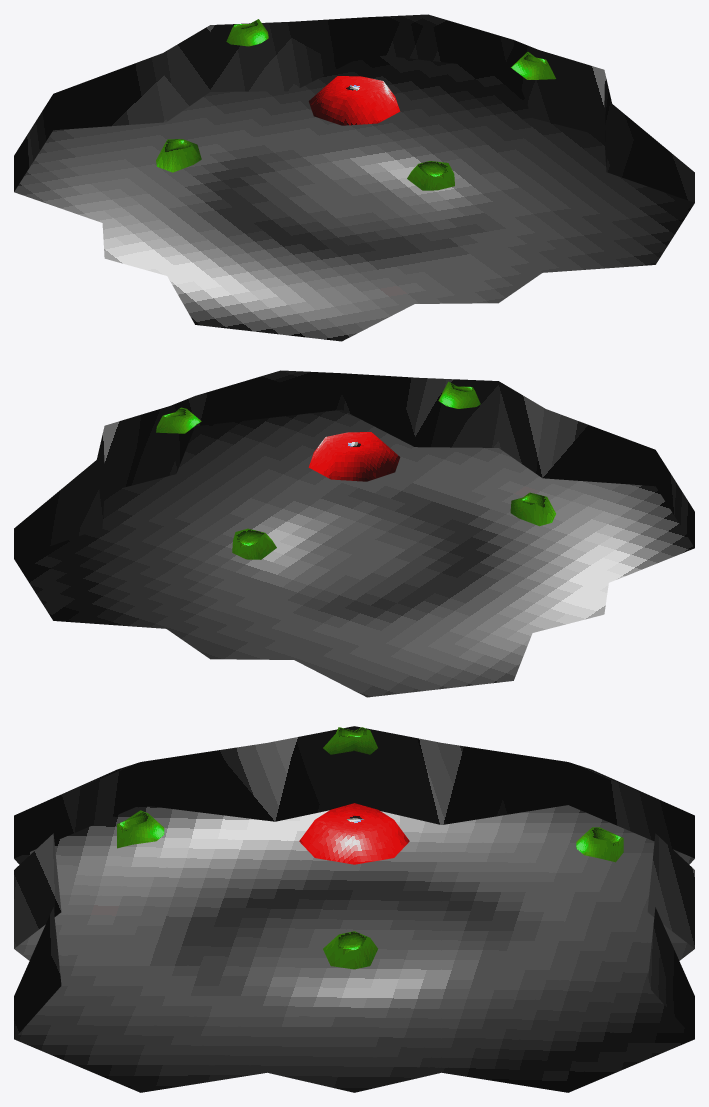
The model's file is gun.glb.
3 renders of one model, top to bottom at view 1: azimuth 30°, elevation 25°; view 2: azimuth 150°, elevation 25°; view 3: azimuth 270°, elevation 25°, orthographic. The views are drawn at different scales.
Visible parts, largest first — view 1: m1, m2, m0; view 2: m1, m2, m0; view 3: m1, m2, m0.
Boxes of the visible parts, box(x1,y1,x2,y2) form: m1: box(14, 14, 694, 341); m2: box(156, 19, 555, 190); m0: box(308, 76, 400, 125); m1: box(14, 370, 694, 697); m2: box(156, 381, 555, 559); m0: box(308, 432, 400, 481); m1: box(14, 726, 694, 1092); m2: box(117, 727, 623, 969); m0: box(299, 803, 409, 864).
Size of the model in its own units: 86 by 18 by 86.
3 materials, 3 textured.
